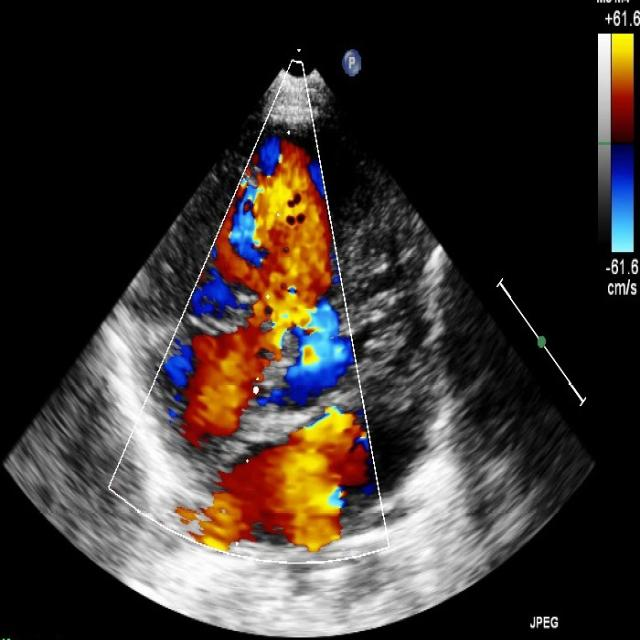VSDType2: (262, 267, 354, 403)
